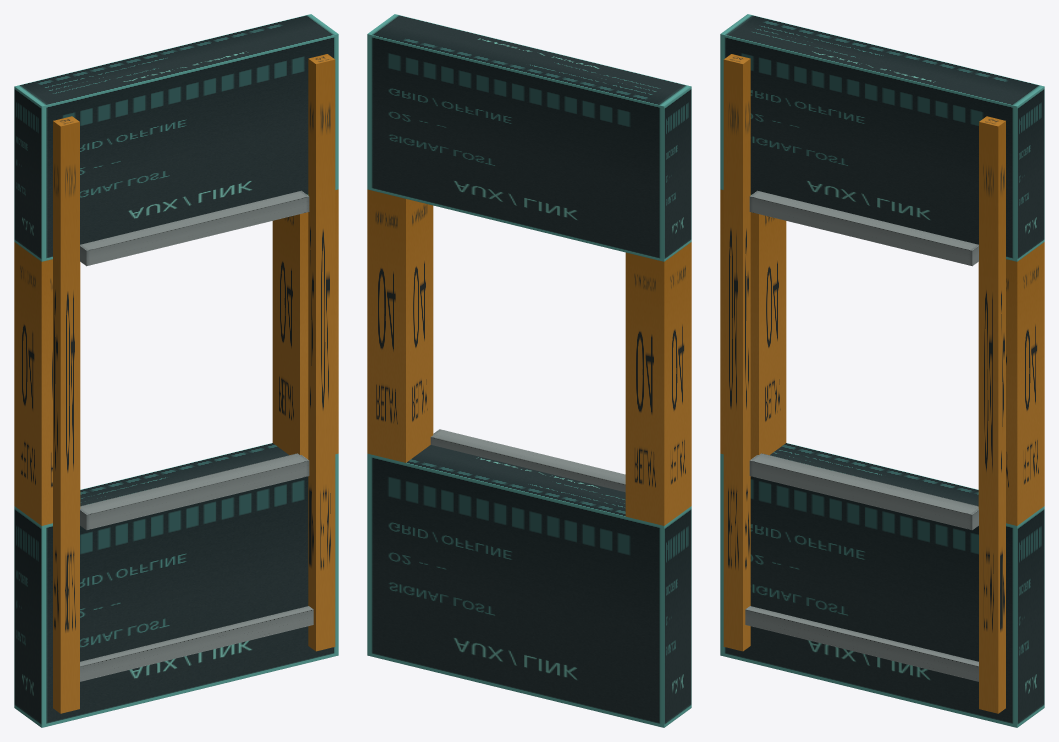
Rendered from wall_window_2m_LOD2.obj.
3 views of the same model, side by side, from view 1: azimuth 30°, elevation 25°; view 2: azimuth 150°, elevation 25°; view 3: azimuth 330°, elevation 25° (orthographic).
Visible parts, largest first — view 1: L02_wall_window_2m_LOD2; view 2: L02_wall_window_2m_LOD2; view 3: L02_wall_window_2m_LOD2.
Boxes of the visible parts, left/top/right/bottom form: L02_wall_window_2m_LOD2: left=14, top=14, right=338, bottom=727; L02_wall_window_2m_LOD2: left=367, top=14, right=691, bottom=727; L02_wall_window_2m_LOD2: left=720, top=14, right=1044, bottom=727.
Bounding box in the file's own units: 2 × 4 × 0.41.
Materials: 1 (1 with a texture image).
